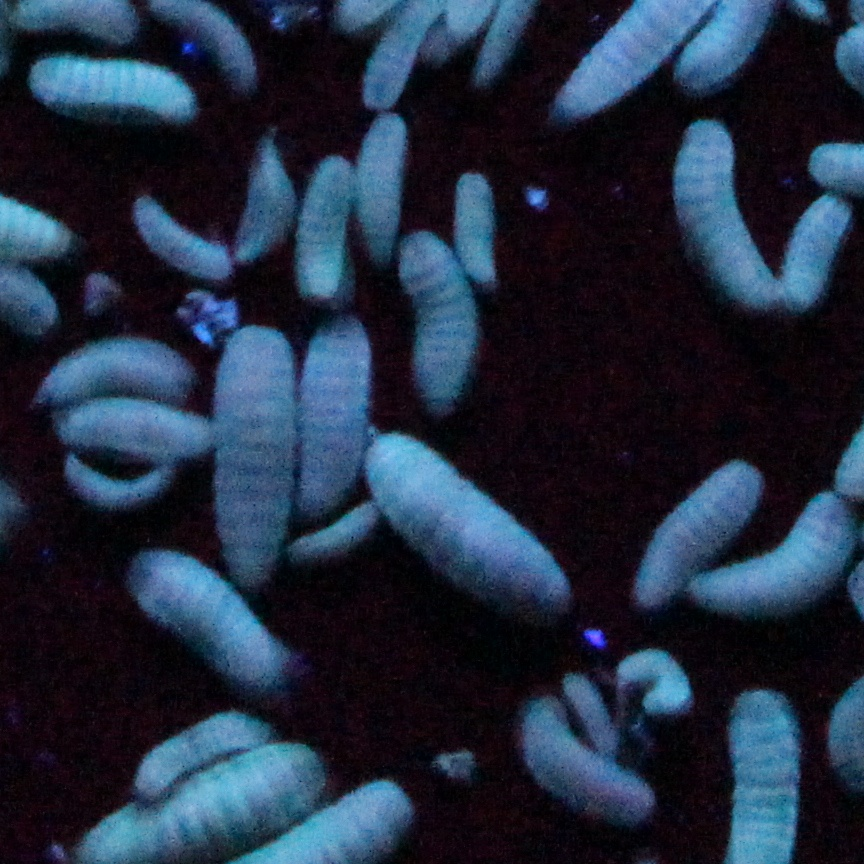larve: (370, 438, 570, 636), (116, 542, 303, 704), (674, 120, 796, 335), (500, 689, 661, 831), (214, 320, 296, 586), (632, 453, 758, 602), (290, 315, 374, 509), (398, 236, 489, 402), (27, 47, 210, 126), (38, 335, 203, 404), (127, 198, 245, 282), (52, 451, 183, 516), (56, 406, 209, 460), (354, 109, 409, 258), (232, 133, 296, 256), (783, 193, 850, 309), (296, 160, 352, 296), (449, 166, 509, 289), (614, 636, 694, 726), (287, 500, 378, 564)
